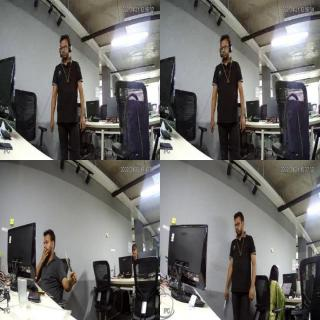knife: (64, 250, 74, 276), (210, 122, 216, 144), (48, 126, 54, 146), (221, 296, 227, 311)
